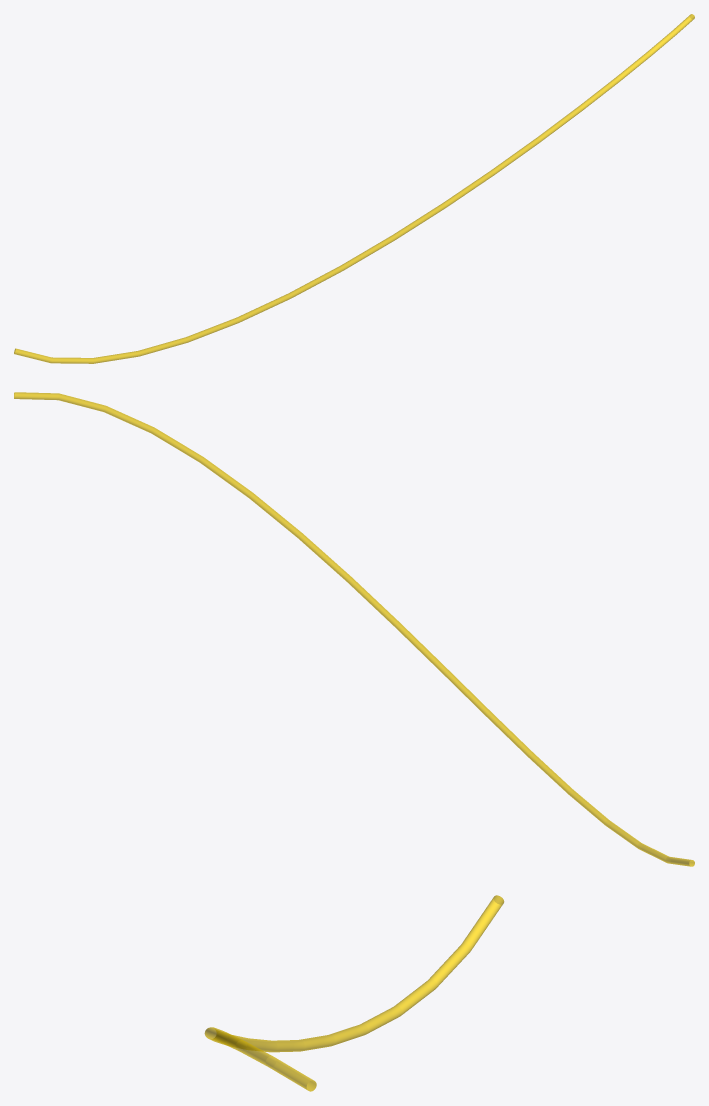
The model's file is Event_27938768_track_35.fbx.
The picture shows the model from 3 angles, top to bottom: view 1: azimuth 30°, elevation 25°; view 2: azimuth 150°, elevation 25°; view 3: azimuth 270°, elevation 25°; orthographic projection. The views are drawn at different scales.
Visible parts, largest first — view 1: Model; view 2: Model; view 3: Model.
Boxes of the visible parts, box(x1,y1,x2,y2) form: Model: box(14, 14, 694, 363); Model: box(14, 392, 694, 866); Model: box(204, 895, 504, 1091).
Size of the model in its own units: 4.94 by 1.73 by 1.01.
